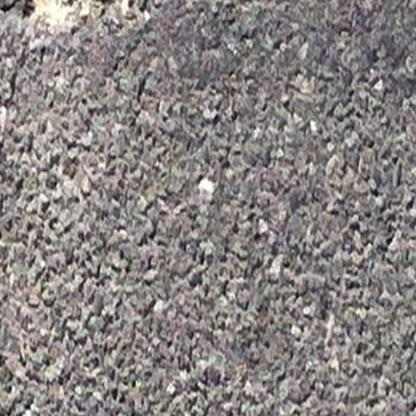Cracks: (23, 0, 216, 35)
